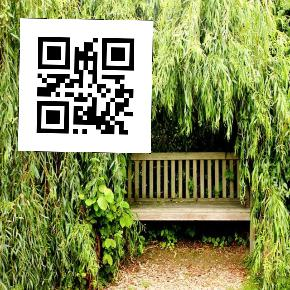qr_code: (18, 18, 152, 152)
